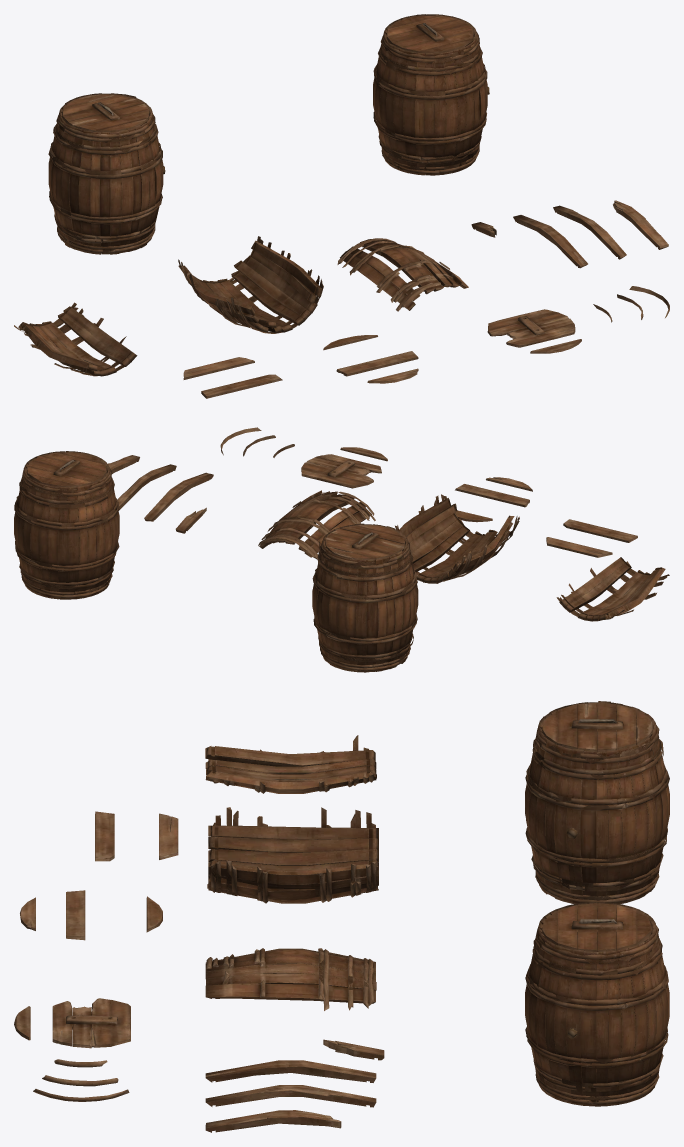
The model's file is wooden_barrels_01.glb.
3 views of the same model, one above another, from view 1: azimuth 30°, elevation 25°; view 2: azimuth 150°, elevation 25°; view 3: azimuth 270°, elevation 25° (orthographic). The views are drawn at different scales.
Visible parts, largest first — view 1: wooden_barrels_01_barrel02, wooden_barrels_01_barrel01, wooden_barrels_01_piece01, wooden_barrels_01_piece03, wooden_barrels_01_piece02, wooden_barrels_01_piece08, wooden_barrels_01_piece04, wooden_barrels_01_piece05, wooden_barrels_01_piece06, wooden_barrels_01_piece11, wooden_barrels_01_piece14, wooden_barrels_01_piece13; view 2: wooden_barrels_01_barrel02, wooden_barrels_01_barrel01, wooden_barrels_01_piece01, wooden_barrels_01_piece03, wooden_barrels_01_piece02, wooden_barrels_01_piece08, wooden_barrels_01_piece04, wooden_barrels_01_piece14, wooden_barrels_01_piece11, wooden_barrels_01_piece05, wooden_barrels_01_piece13; view 3: wooden_barrels_01_barrel01, wooden_barrels_01_barrel02, wooden_barrels_01_piece01, wooden_barrels_01_piece03, wooden_barrels_01_piece02, wooden_barrels_01_piece08, wooden_barrels_01_piece04, wooden_barrels_01_piece05, wooden_barrels_01_piece06, wooden_barrels_01_piece14, wooden_barrels_01_piece11, wooden_barrels_01_piece13 (+1 smaller).
Part boxes in pixels (left/top/right/bottom): wooden_barrels_01_barrel02: left=48, top=93, right=165, bottom=254; wooden_barrels_01_barrel01: left=373, top=14, right=489, bottom=175; wooden_barrels_01_piece01: left=178, top=236, right=323, bottom=333; wooden_barrels_01_piece03: left=337, top=238, right=468, bottom=311; wooden_barrels_01_piece02: left=14, top=302, right=137, bottom=376; wooden_barrels_01_piece08: left=487, top=309, right=575, bottom=347; wooden_barrels_01_piece04: left=513, top=215, right=587, bottom=268; wooden_barrels_01_piece05: left=553, top=205, right=626, bottom=259; wooden_barrels_01_piece06: left=613, top=200, right=668, bottom=249; wooden_barrels_01_piece11: left=336, top=351, right=418, bottom=376; wooden_barrels_01_piece14: left=201, top=374, right=282, bottom=398; wooden_barrels_01_piece13: left=183, top=357, right=254, bottom=379; wooden_barrels_01_barrel02: left=312, top=523, right=418, bottom=672; wooden_barrels_01_barrel01: left=14, top=451, right=119, bottom=599; wooden_barrels_01_piece01: left=395, top=494, right=519, bottom=583; wooden_barrels_01_piece03: left=258, top=490, right=375, bottom=559; wooden_barrels_01_piece02: left=556, top=557, right=669, bottom=621; wooden_barrels_01_piece08: left=301, top=454, right=381, bottom=488; wooden_barrels_01_piece04: left=144, top=472, right=213, bottom=521; wooden_barrels_01_piece14: left=563, top=519, right=637, bottom=542; wooden_barrels_01_piece11: left=455, top=484, right=529, bottom=507; wooden_barrels_01_piece05: left=117, top=464, right=176, bottom=510; wooden_barrels_01_piece13: left=546, top=537, right=612, bottom=557; wooden_barrels_01_barrel01: left=525, top=902, right=669, bottom=1106; wooden_barrels_01_barrel02: left=525, top=701, right=669, bottom=903; wooden_barrels_01_piece01: left=207, top=807, right=378, bottom=903; wooden_barrels_01_piece03: left=205, top=948, right=376, bottom=1010; wooden_barrels_01_piece02: left=205, top=735, right=376, bottom=793; wooden_barrels_01_piece08: left=52, top=998, right=130, bottom=1048; wooden_barrels_01_piece04: left=205, top=1060, right=376, bottom=1082; wooden_barrels_01_piece05: left=205, top=1085, right=376, bottom=1107; wooden_barrels_01_piece06: left=205, top=1110, right=341, bottom=1132; wooden_barrels_01_piece14: left=95, top=811, right=114, bottom=861; wooden_barrels_01_piece11: left=66, top=890, right=85, bottom=940; wooden_barrels_01_piece13: left=159, top=813, right=178, bottom=859.
Bounding box in the file's own units: 4.44 × 0.953 × 3.34.
3 materials, 3 textured.
